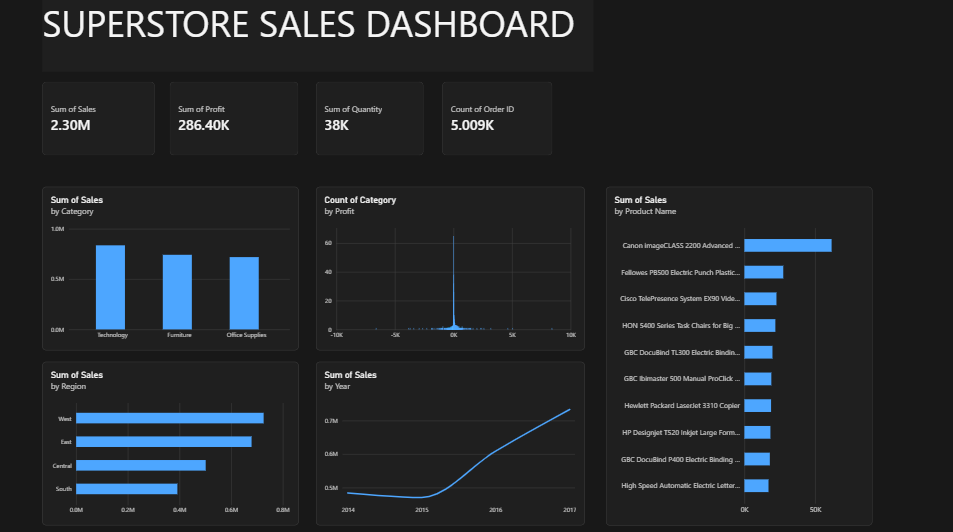

This screenshot's page, from the dashboard's own definition file:
{"tool":"powerbi","page":{"name":"Page 1","canvas":[1920,1080],"ordinal":0},"visuals":[{"type":"cardVisual","fields":{"Data":["Sum(Superstore_clean.Sales)"]},"box":[92.5,167.5,225,147.5],"z":0},{"type":"cardVisual","fields":{"Data":["Sum(Superstore_clean.Profit)"]},"box":[347.5,167.5,257.5,147.5],"z":1},{"type":"cardVisual","fields":{"Data":["Count(Superstore_clean.Order ID)"]},"box":[892.5,167.5,220,147.5],"z":2},{"type":"cardVisual","fields":{"Data":["Sum(Superstore_clean.Quantity)"]},"box":[640,167.5,215,147.5],"z":3},{"type":"clusteredColumnChart","fields":{"Category":["Superstore_clean.Category"],"Y":["Sum(Superstore_clean.Sales)"]},"box":[92.5,377.5,512.5,327.5],"z":4},{"type":"textbox","box":[92.5,0,1102.5,147.5],"z":5},{"type":"clusteredBarChart","fields":{"Category":["Superstore_clean.Region"],"Y":["Sum(Superstore_clean.Sales)"]},"box":[92.5,727.5,512.5,327.5],"z":6},{"type":"clusteredColumnChart","fields":{"Category":["Superstore_clean.Profit"],"Y":["CountNonNull(Superstore_clean.Category)"]},"box":[640,377.5,537.5,327.5],"z":7},{"type":"lineChart","fields":{"Category":["Superstore_clean.Order Date.Variation.Date Hierarchy.Year","Superstore_clean.Order Date.Variation.Date Hierarchy.Quarter","Superstore_clean.Order Date.Variation.Date Hierarchy.Month","Superstore_clean.Order Date.Variation.Date Hierarchy.Day"],"Y":["Sum(Superstore_clean.Sales)"]},"box":[640,727.5,537.5,327.5],"z":8},{"type":"clusteredBarChart","fields":{"Category":["Superstore_clean.Product Name"],"Y":["Sum(Superstore_clean.Sales)"]},"box":[1220,377.5,532.5,677.5],"z":9}]}

Visuals, with their boxes in screenshot pixels (x1, y1, x2, y2), scaled from the page's 1920x1080 canvas onto the 953x532 screenshot:
cardVisual - Sum(Superstore_clean.Sales): 46/83/158/155
cardVisual - Sum(Superstore_clean.Profit): 172/83/300/155
cardVisual - Count(Superstore_clean.Order ID): 443/83/552/155
cardVisual - Sum(Superstore_clean.Quantity): 318/83/424/155
clusteredColumnChart - Superstore_clean.Category x Sum(Superstore_clean.Sales): 46/186/300/347
textbox: 46/0/593/73
clusteredBarChart - Superstore_clean.Region x Sum(Superstore_clean.Sales): 46/358/300/520
clusteredColumnChart - Superstore_clean.Profit x CountNonNull(Superstore_clean.Category): 318/186/584/347
lineChart - Superstore_clean.Order Date.Variation.Date Hierarchy.Year x Superstore_clean.Order Date.Variation.Date Hierarchy.Quarter: 318/358/584/520
clusteredBarChart - Superstore_clean.Product Name x Sum(Superstore_clean.Sales): 606/186/870/520
